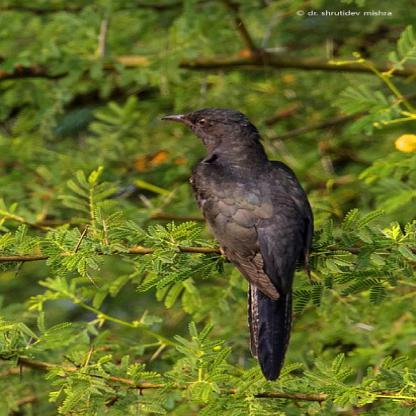Burung: (159, 106, 314, 381)
